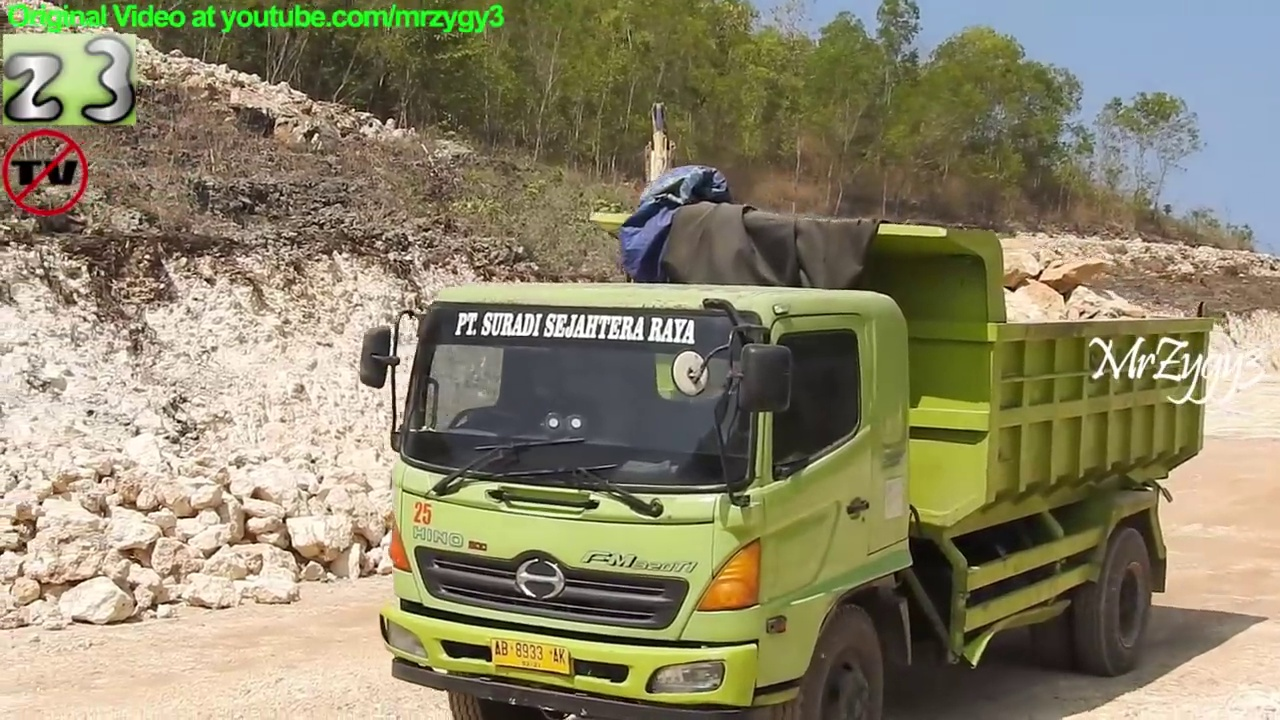excavator: (515, 98, 847, 483)
truck: (350, 202, 1226, 720)
